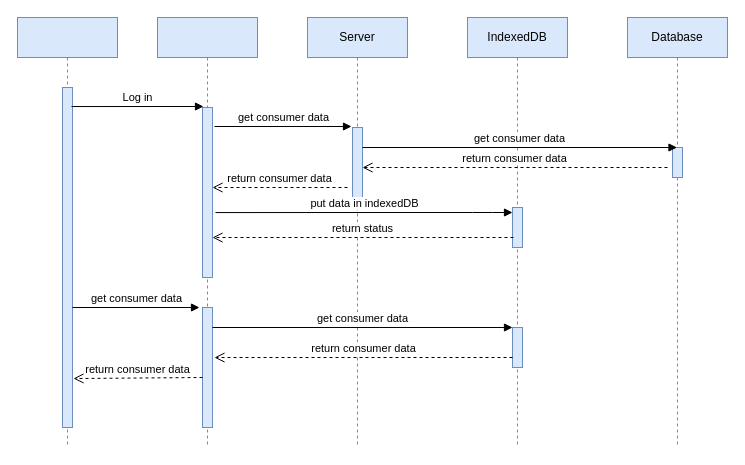
This 745x465 diagram has some shape labels left out. The box of each missing label's shape, as (x1, y1, x2, y2) in pixels:
Client: (16, 16, 118, 448)
Service Worker: (156, 16, 258, 448)
